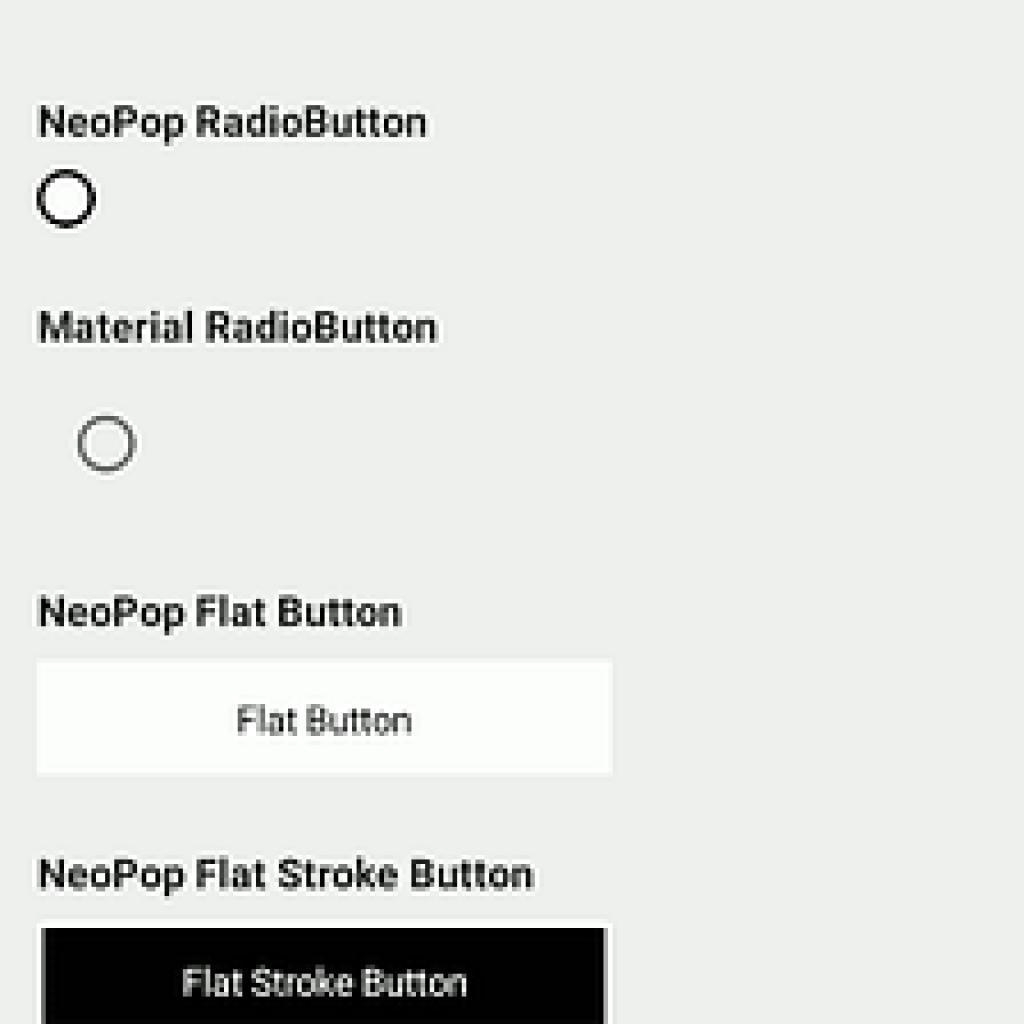button: (37, 654, 615, 775), (45, 926, 608, 1024)
label: (34, 850, 541, 909), (35, 305, 456, 365), (30, 93, 443, 154), (34, 593, 409, 643)
radio: (36, 169, 102, 236), (78, 418, 137, 476)
